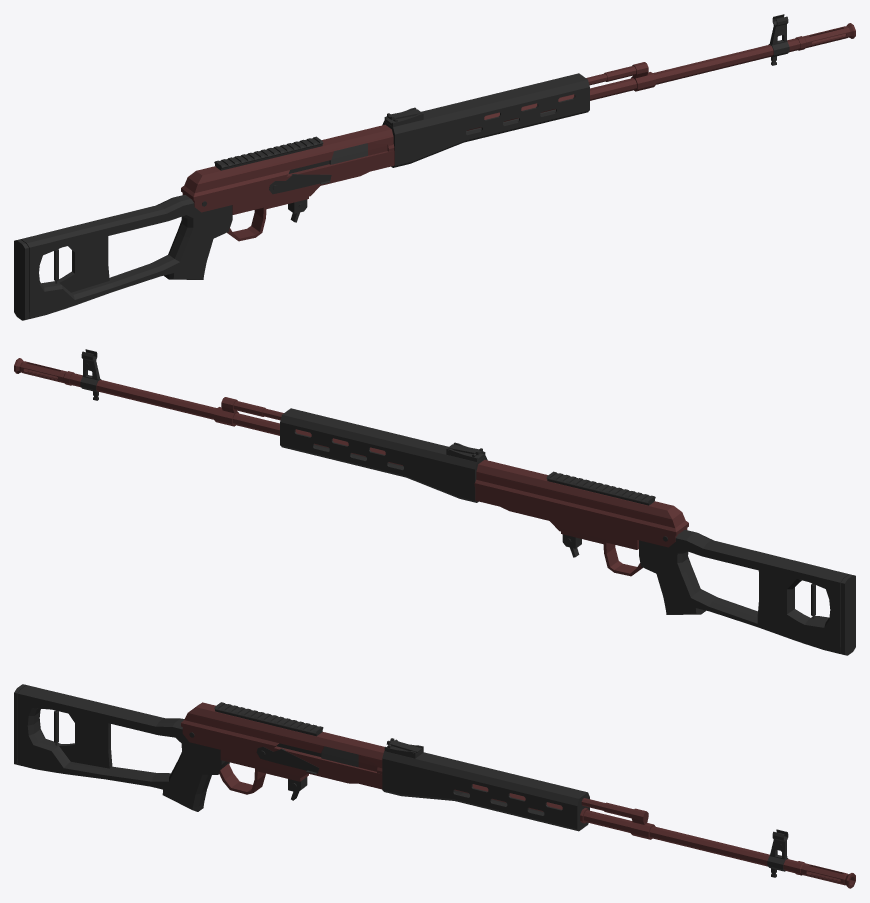
File: SniperRifle2_04.fbx
3 renders of one model, top to bottom at view 1: azimuth 30°, elevation 25°; view 2: azimuth 150°, elevation 25°; view 3: azimuth 330°, elevation 25°, orthographic.
Parts seen in each view (by area): view 1: SniperRifle2_04; view 2: SniperRifle2_04; view 3: SniperRifle2_04.
Part boxes in pixels (x1,y1,x2,y2): SniperRifle2_04: (14,14,855,320); SniperRifle2_04: (14,349,855,655); SniperRifle2_04: (14,684,855,888).
Size of the model in its own units: 1.51 by 0.2075 by 0.0444.
